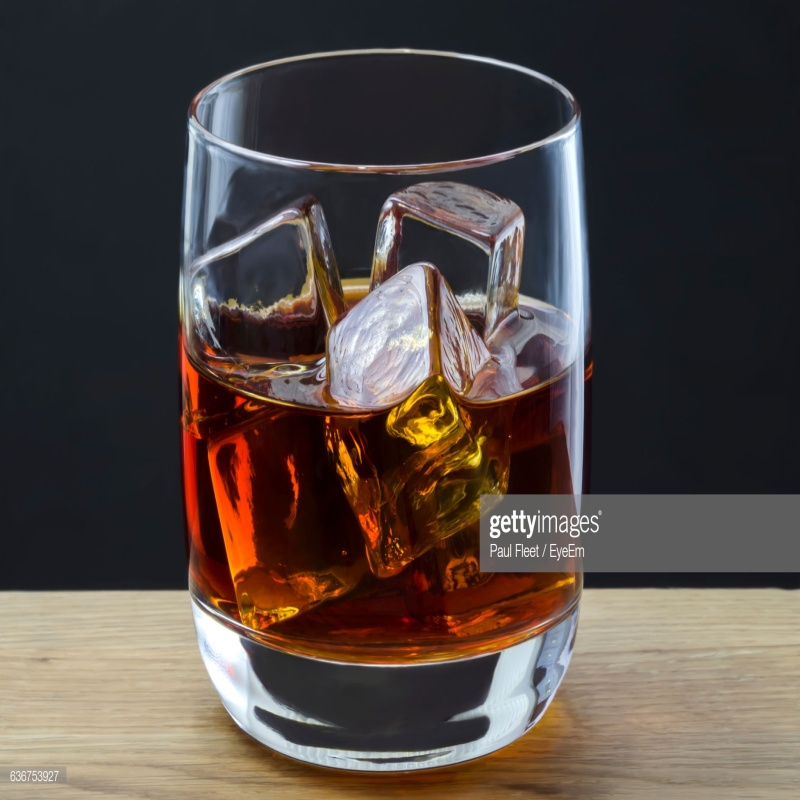whiskey: (203, 53, 570, 743)
